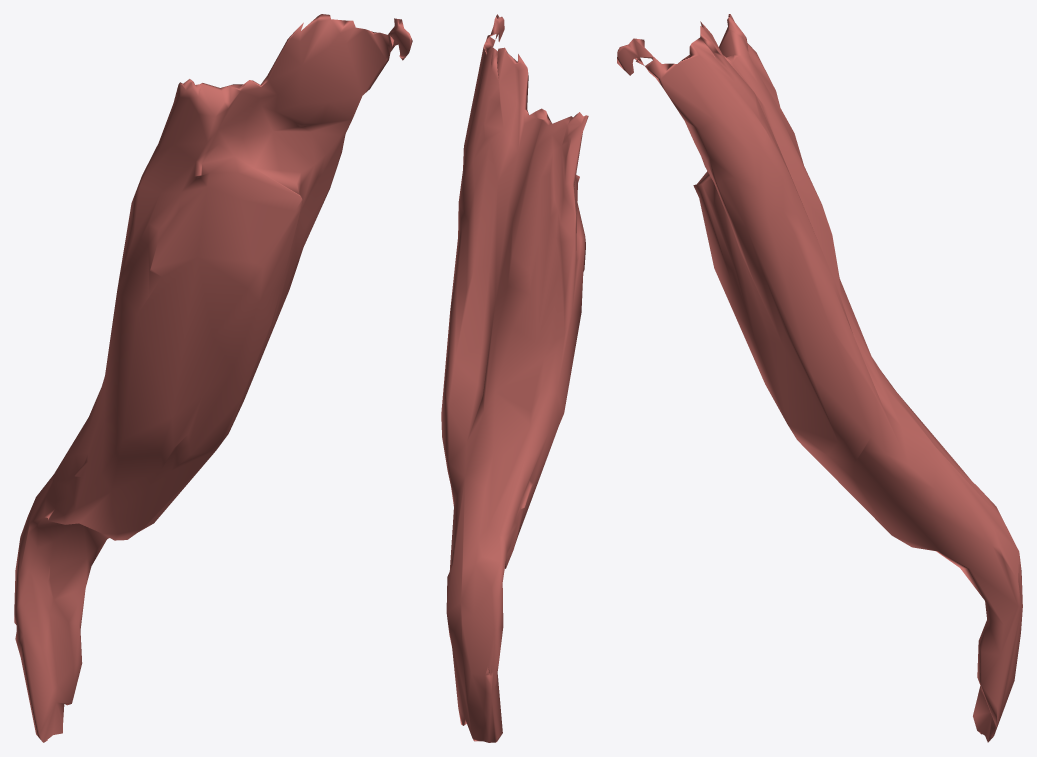
The picture shows the model from 3 angles, left to right: view 1: azimuth 30°, elevation 25°; view 2: azimuth 150°, elevation 25°; view 3: azimuth 270°, elevation 25°; orthographic projection. The views are drawn at different scales.
Parts seen in each view (by area): view 1: 右侧踇短屈肌外侧头; view 2: 右侧踇短屈肌外侧头; view 3: 右侧踇短屈肌外侧头.
Part boxes in pixels (left/top/right/bottom): 右侧踇短屈肌外侧头: left=14, top=14, right=412, bottom=742; 右侧踇短屈肌外侧头: left=441, top=14, right=588, bottom=742; 右侧踇短屈肌外侧头: left=617, top=14, right=1022, bottom=742.
Bounding box in the file's own units: 0.0308 × 0.1198 × 0.0567.
